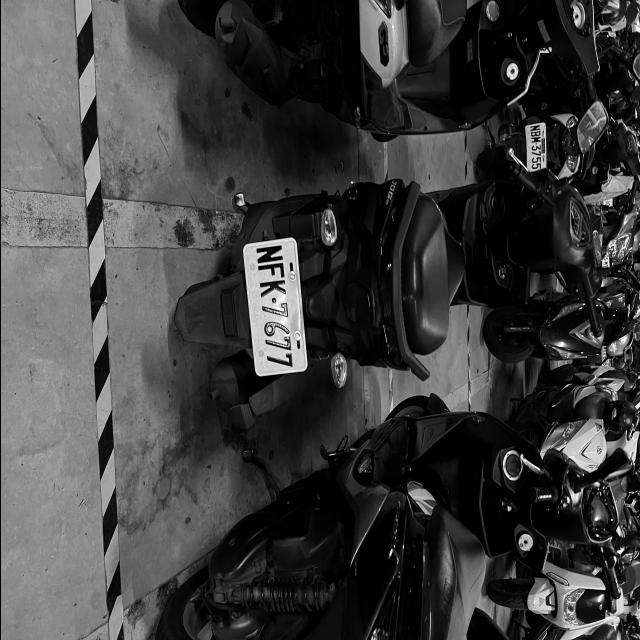-: (269, 296, 277, 304), (534, 143, 536, 145)
3: (530, 145, 540, 151)
5: (530, 163, 540, 169), (531, 157, 541, 163)
6: (263, 321, 289, 337)
7: (264, 350, 294, 371), (264, 337, 290, 353), (262, 303, 288, 317), (530, 152, 540, 156)
B: (530, 131, 540, 137)
F: (256, 262, 284, 278)
K: (259, 280, 286, 298)
M: (530, 137, 540, 143)
N: (256, 244, 283, 264), (530, 125, 540, 132)
plate: (252, 240, 298, 376), (526, 124, 544, 172)
